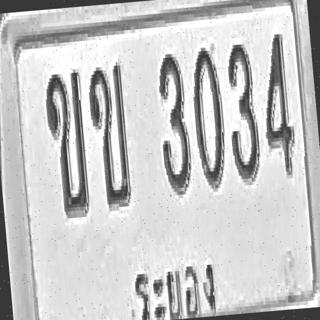A02: (42, 67, 91, 218), (86, 62, 132, 208)
N00: (188, 43, 228, 190)
N03: (154, 49, 193, 196), (223, 40, 262, 183)
N04: (257, 30, 297, 176)
P53: (130, 254, 221, 320)
